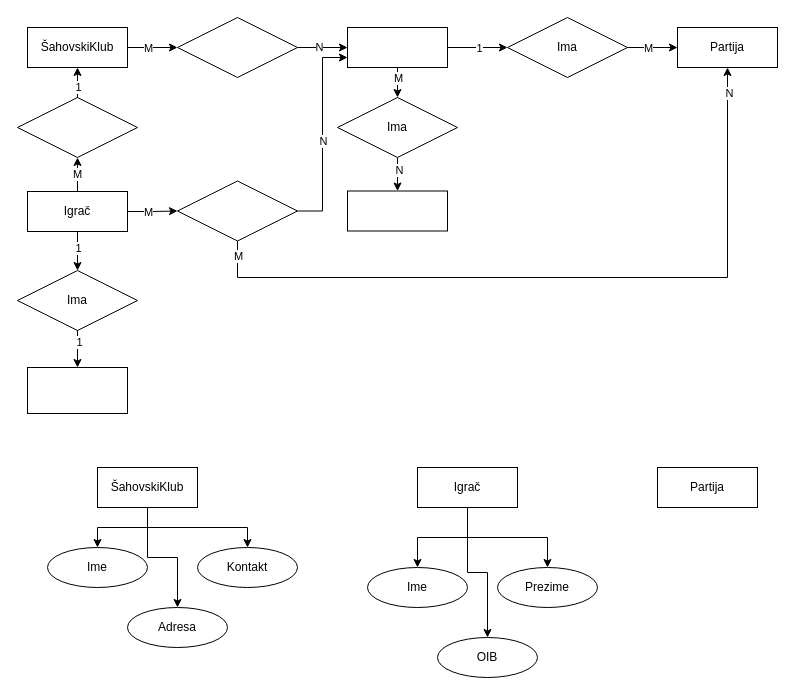
Some shapes in this 795 by 695 pixel diagram are drawn without their labels. Each missing label, with the box of its shape:
Igra: (176, 180, 298, 241)
Organizira: (176, 16, 298, 78)
Pripada: (16, 96, 138, 158)
Rang: (26, 366, 128, 414)
Sponzor: (346, 190, 448, 231)
Turnir: (346, 26, 448, 68)
